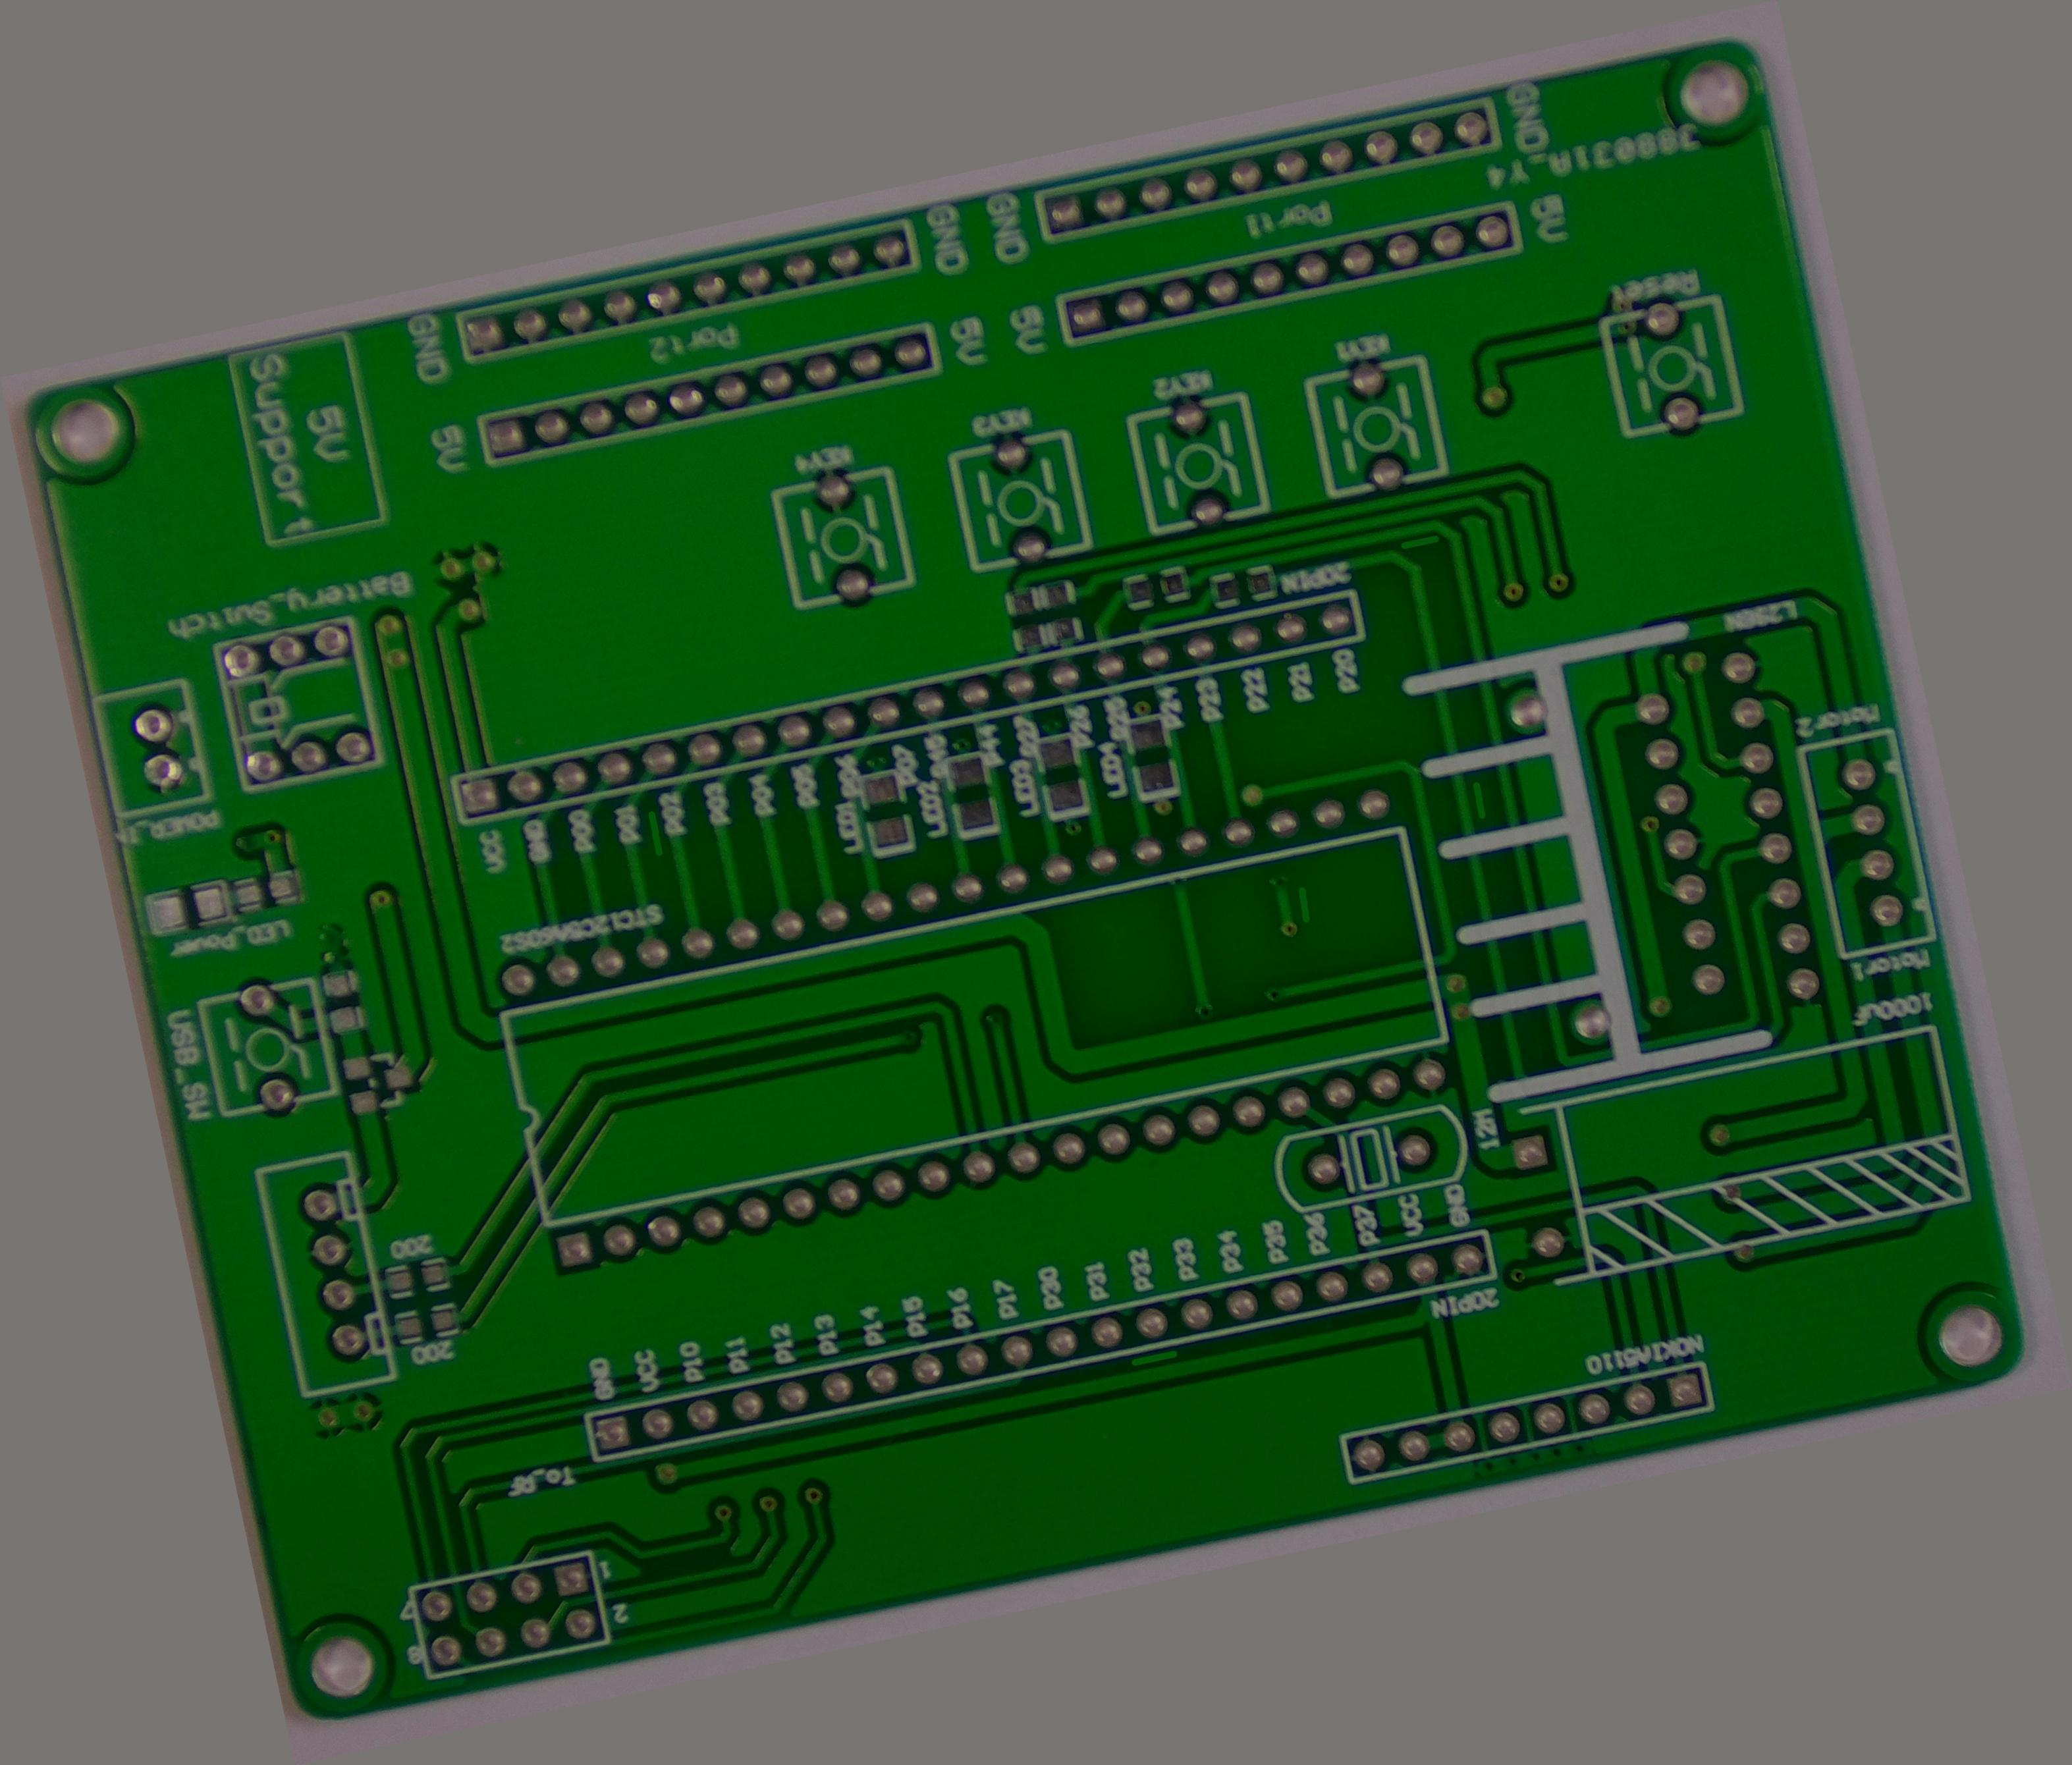spurious_copper: (1454, 763, 1506, 828), (1121, 1334, 1195, 1380), (1389, 518, 1454, 569), (627, 800, 678, 863), (1280, 874, 1324, 935)
